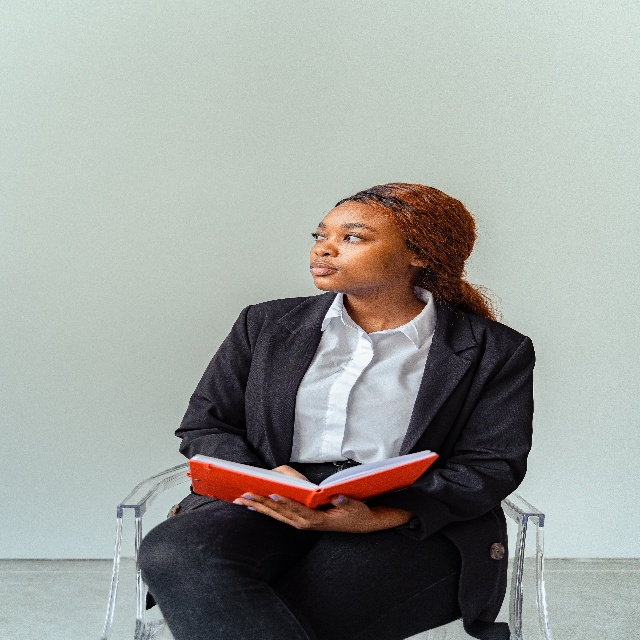Sin_guantes: (232, 493, 373, 533)
